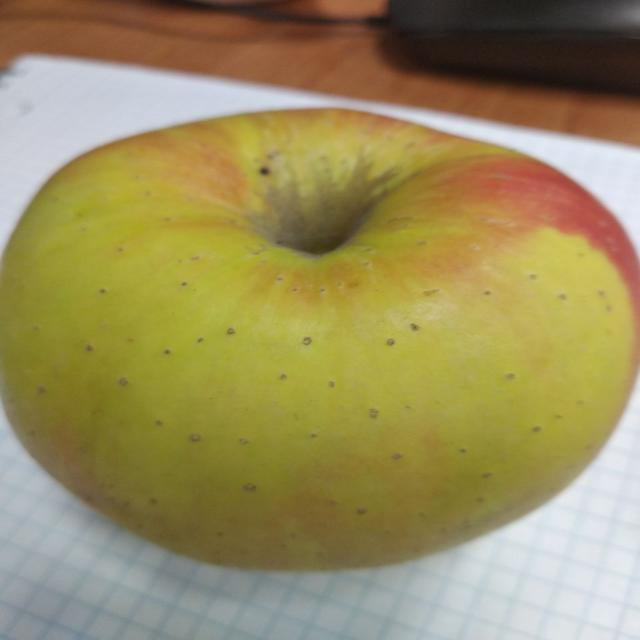Fresh Apple: (1, 113, 640, 576)
